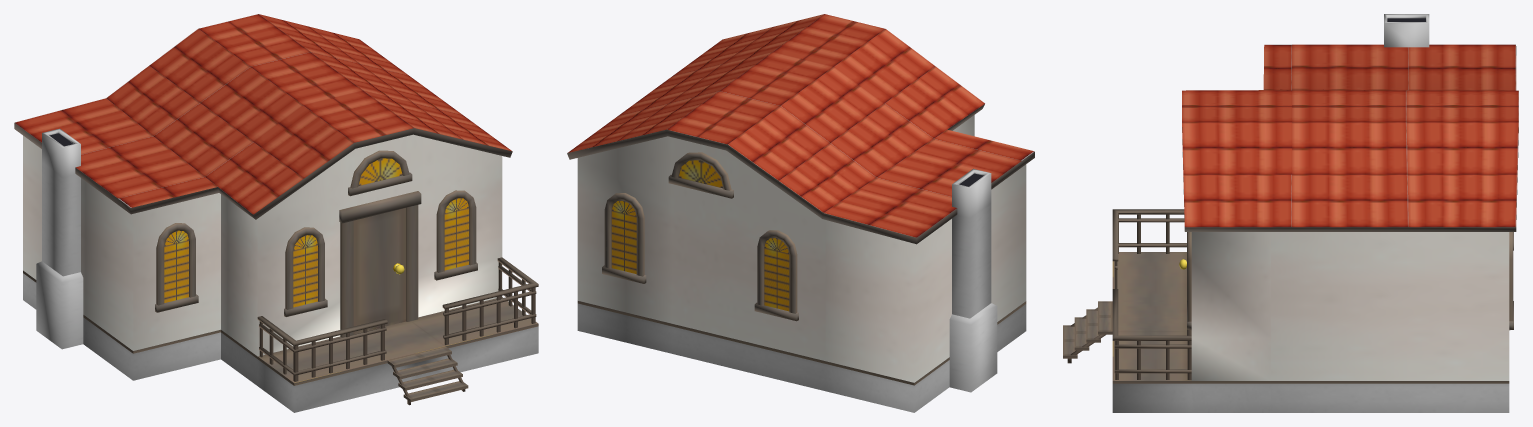
Rendered from Town Houses Variant 1 (Red).fbx.
3 views of the same model, side by side, from view 1: azimuth 30°, elevation 25°; view 2: azimuth 150°, elevation 25°; view 3: azimuth 270°, elevation 25° (orthographic). The views are drawn at different scales.
Visible parts, largest first — view 1: Town House 1 V1; view 2: Town House 1 V1; view 3: Town House 1 V1.
Part boxes in pixels (x1,y1,x2,y2): Town House 1 V1: (14, 14, 538, 412); Town House 1 V1: (567, 14, 1034, 412); Town House 1 V1: (1063, 14, 1518, 412).
Bounding box in the file's own units: 826 × 490 × 836.
Materials: 1 (1 with a texture image).
